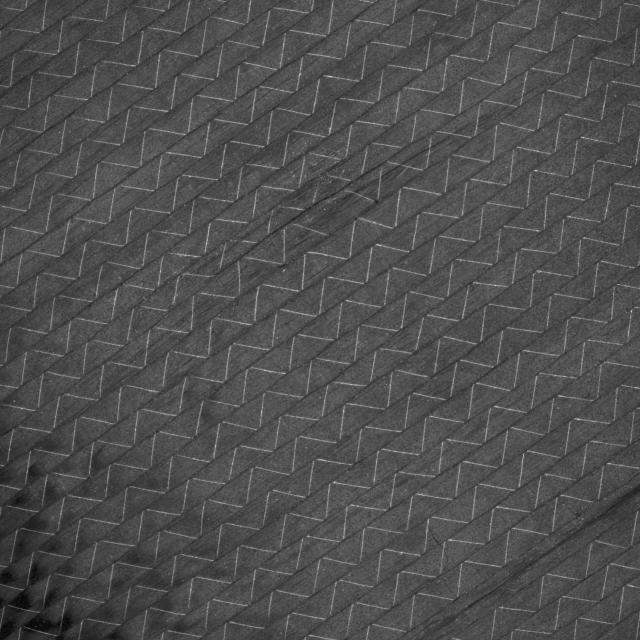carbon-fibre-defect: (178, 97, 475, 316)
